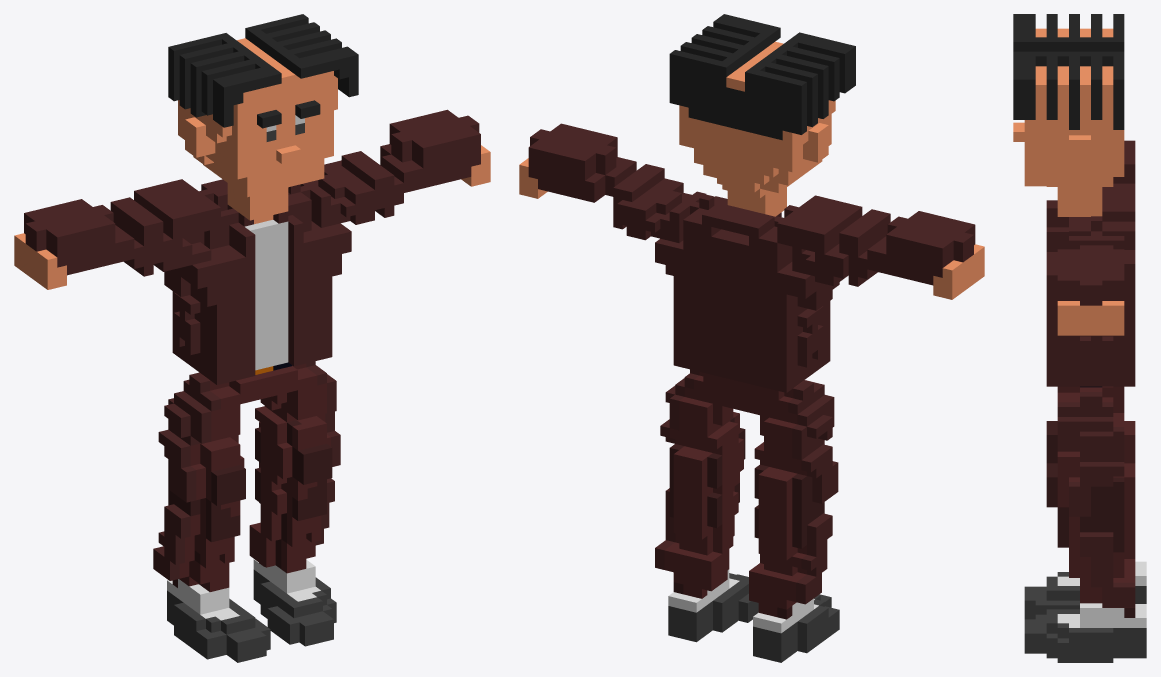
Rendered from Kim Jong.obj.
3 renders of one model, left to right at view 1: azimuth 30°, elevation 25°; view 2: azimuth 150°, elevation 25°; view 3: azimuth 270°, elevation 25°, orthographic. The views are drawn at different scales.
Size of the model in its own units: 4.6 by 5.8 by 1.2.
Materials: 1 (1 with a texture image).
